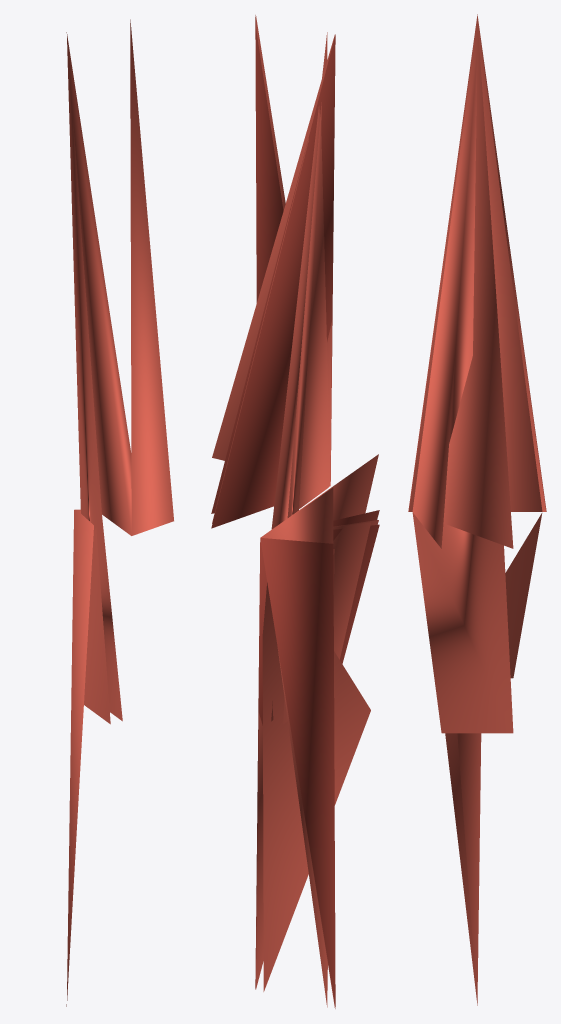
Rendered from equip_legs_dragon_platelegs.glb.
The picture shows the model from 3 angles, left to right: view 1: azimuth 30°, elevation 25°; view 2: azimuth 150°, elevation 25°; view 3: azimuth 270°, elevation 25°; orthographic projection.
Visible parts, largest first — view 1: equip_legs_dragon_platelegs; view 2: equip_legs_dragon_platelegs; view 3: equip_legs_dragon_platelegs.
Boxes of the visible parts, box(x1,y1,x2,y2) form: equip_legs_dragon_platelegs: box(66, 19, 173, 1006); equip_legs_dragon_platelegs: box(211, 15, 379, 1008); equip_legs_dragon_platelegs: box(408, 14, 546, 1005).
Bounding box in the file's own units: 0.262 × 2 × 0.262.
